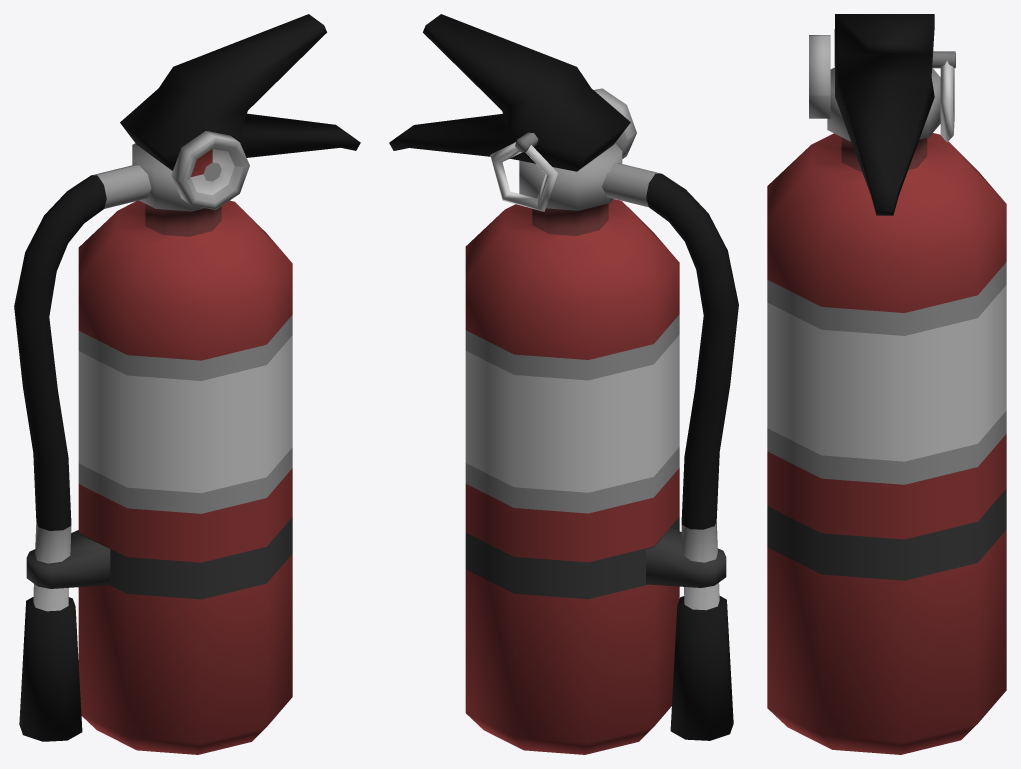
File: fire extringuisher.fbx
3 views of the same model, side by side, from view 1: azimuth 30°, elevation 25°; view 2: azimuth 150°, elevation 25°; view 3: azimuth 270°, elevation 25° (orthographic). The views are drawn at different scales.
Parts seen in each view (by area): view 1: Fire Extinguisher; view 2: Fire Extinguisher; view 3: Fire Extinguisher.
Part boxes in pixels (x1=…): Fire Extinguisher: x1=14, y1=14, x2=360, y2=754; Fire Extinguisher: x1=389, y1=14, x2=738, y2=754; Fire Extinguisher: x1=767, y1=14, x2=1006, y2=754.
Size of the model in its own units: 0.4155 by 0.7702 by 0.2247.
